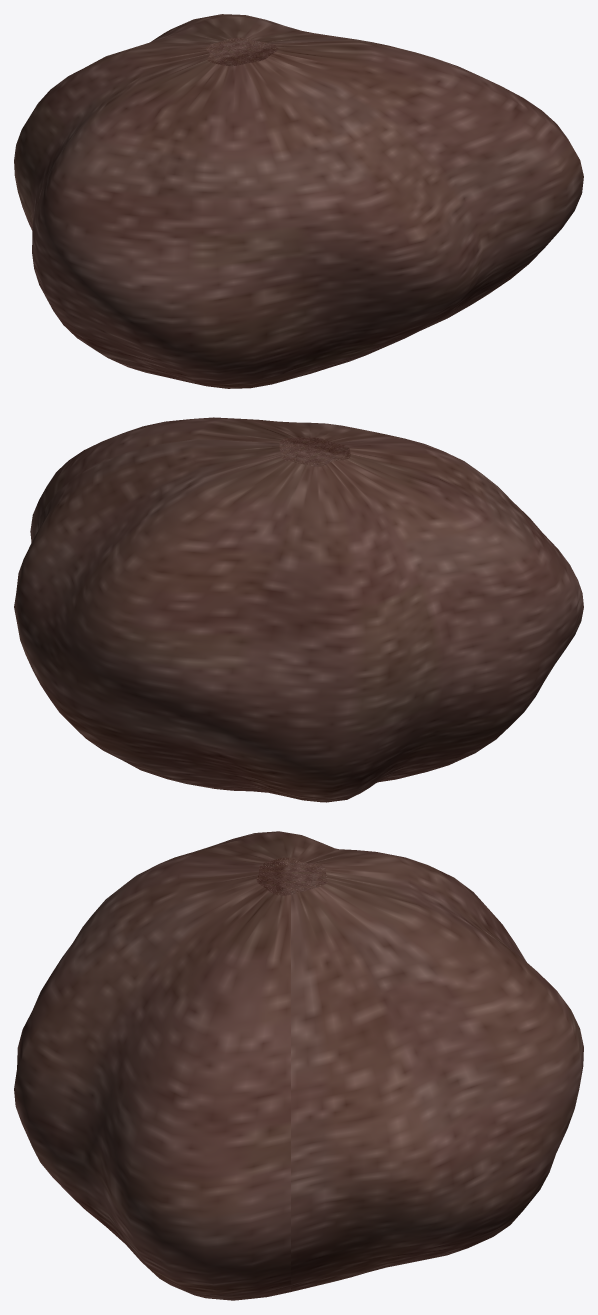
File: aswan_granite_boulder.glb
The picture shows the model from 3 angles, top to bottom: view 1: azimuth 30°, elevation 25°; view 2: azimuth 150°, elevation 25°; view 3: azimuth 270°, elevation 25°; orthographic projection. The views are drawn at different scales.
Visible parts, largest first — view 1: aswan_granite_boulder; view 2: aswan_granite_boulder; view 3: aswan_granite_boulder.
Part boxes in pixels (left/top/right/bottom): aswan_granite_boulder: left=14, top=14, right=583, bottom=388; aswan_granite_boulder: left=14, top=417, right=583, bottom=802; aswan_granite_boulder: left=14, top=831, right=583, bottom=1300.
Bounding box in the file's own units: 3.4 × 1.95 × 2.8.
Materials: 1 (1 with a texture image).
